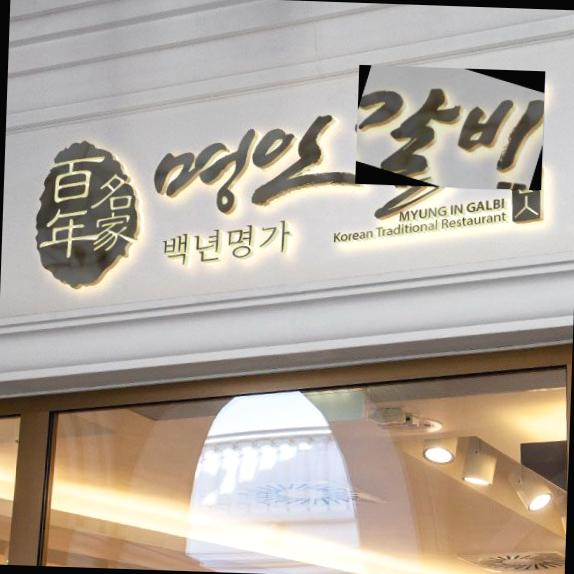galbi: (356, 66, 546, 192)
